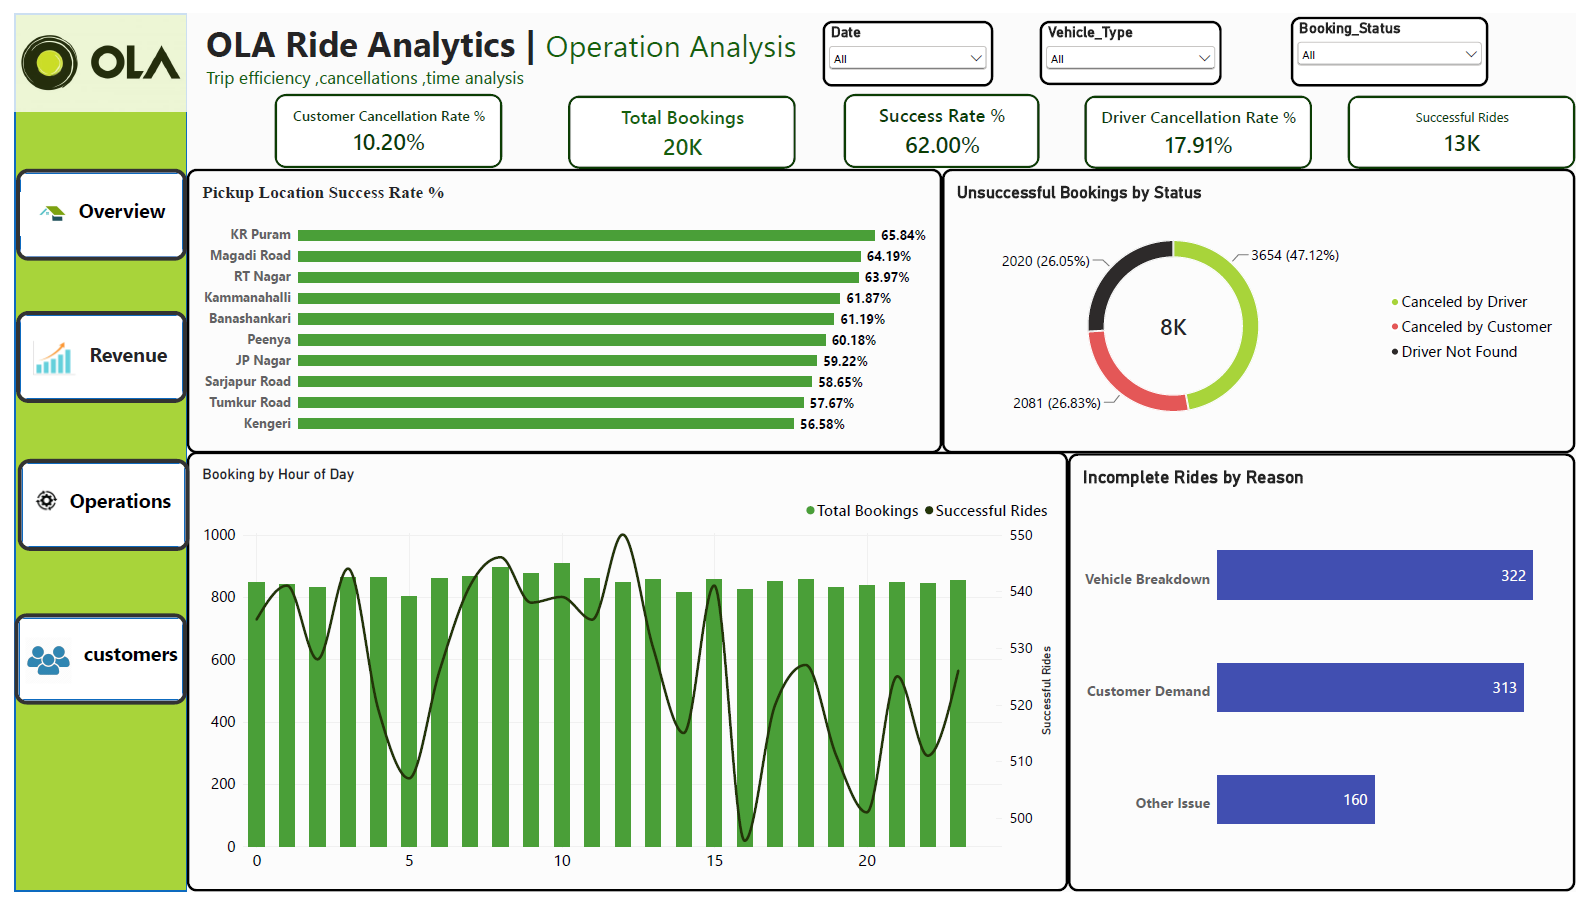

What the dashboard file says about the page in this screenshot:
{"tool":"powerbi","page":{"name":"Operations","canvas":[1920,1080],"ordinal":2},"visuals":[{"type":"shape","box":[0,0,211.7,1080.4],"z":0},{"type":"cardVisual","fields":{"Data":["ola bookings_clean.Total Bookings"]},"box":[681,101.2,280,90],"z":1},{"type":"cardVisual","fields":{"Data":["ola bookings_clean.Successful Rides"]},"box":[1639.9,101.2,280,90],"z":2},{"type":"cardVisual","fields":{"Data":["ola bookings_clean.Success Rate %"]},"box":[1019.6,99.4,241.1,90.2],"z":4},{"type":"cardVisual","fields":{"Data":["ola bookings_clean.Customer Cancellation Rate %"]},"box":[320.2,99.4,280,90.2],"z":5},{"type":"cardVisual","fields":{"Data":["ola bookings_clean.Driver Cancellation Rate %"]},"box":[1316,101.2,280,90],"z":6},{"type":"lineClusteredColumnComboChart","title":"Booking by Hour of Day","fields":{"Category":["ola bookings_clean.Booking Hour"],"Y":["ola bookings_clean.Total Bookings"],"Y2":["ola bookings_clean.Successful Rides"]},"box":[211.7,539.3,1084.1,541.1],"z":7},{"type":"donutChart","title":"Unsuccessful Bookings by Status","fields":{"Category":["ola bookings_clean.Booking_Status"],"Y":["ola bookings_clean.Total Bookings"]},"box":[1141.1,191.4,778.5,349.7],"z":8},{"type":"clusteredBarChart","title":"Incomplete Rides by Reason","fields":{"Category":["ola bookings_clean.Incomplete_Rides_Reason"],"Y":["CountNonNull(ola bookings_clean.Booking_ID)"]},"box":[1295.7,541.1,623.9,539.3],"z":9},{"type":"clusteredBarChart","title":"Pickup Location Success Rate % ","fields":{"Category":["ola bookings_clean.Pickup_Location"],"Y":["ola bookings_clean.Pickup Location Success Rate %"]},"box":[211.7,191.4,929.5,349.7],"z":10},{"type":"slicer","title":"DATE","fields":{"Values":["ola bookings_clean.Date.1"]},"box":[993.9,9.2,209.8,81],"z":11},{"type":"slicer","fields":{"Values":["ola bookings_clean.Vehicle_Type"]},"box":[1260.7,9.2,224.5,79.1],"z":12},{"type":"slicer","fields":{"Values":["ola bookings_clean.Booking_Status"]},"box":[1569.9,3.7,242.9,86.5],"z":13},{"type":"textbox","box":[235.6,7.4,817.2,112.3],"z":14},{"type":"image","box":[0,0,211.7,119.6],"z":15},{"type":"shape","box":[1.8,191.4,209.8,112.3],"z":16},{"type":"shape","box":[1.8,366.3,209.8,112.3],"z":17},{"type":"shape","box":[3.7,548.5,211.7,112.3],"z":18},{"type":"shape","box":[0,738,211.7,112.3],"z":19},{"type":"image","box":[7.4,191.4,79.1,110.4],"z":21},{"type":"image","box":[3.7,388.3,90.2,69.9],"z":22},{"type":"image","box":[18.4,568.7,42.3,58.9],"z":23},{"type":"image","box":[12.9,760.1,57.1,69.9],"z":24},{"type":"textbox","box":[79.1,226.4,136.2,46],"z":26},{"type":"textbox","box":[92,403.1,116,60.7],"z":27},{"type":"textbox","box":[68.1,581.6,152.8,46],"z":28},{"type":"textbox","box":[84.7,771.2,121.5,46],"z":29}]}

Visuals, with their boxes in screenshot pixels (x1, y1, x2, y2), scaled from the page's 1920x1080 canvas onto the 1582x898 screenshot:
shape: x1=0 y1=0 x2=174 y2=897
cardVisual - ola bookings_clean.Total Bookings: x1=561 y1=84 x2=792 y2=159
cardVisual - ola bookings_clean.Successful Rides: x1=1351 y1=84 x2=1581 y2=159
cardVisual - ola bookings_clean.Success Rate %: x1=840 y1=83 x2=1039 y2=158
cardVisual - ola bookings_clean.Customer Cancellation Rate %: x1=264 y1=83 x2=495 y2=158
cardVisual - ola bookings_clean.Driver Cancellation Rate %: x1=1084 y1=84 x2=1315 y2=159
"Booking by Hour of Day" lineClusteredColumnComboChart: x1=174 y1=448 x2=1068 y2=897
"Unsuccessful Bookings by Status" donutChart: x1=940 y1=159 x2=1581 y2=450
"Incomplete Rides by Reason" clusteredBarChart: x1=1068 y1=450 x2=1581 y2=897
"Pickup Location Success Rate % " clusteredBarChart: x1=174 y1=159 x2=940 y2=450
"DATE" slicer: x1=819 y1=8 x2=992 y2=75
slicer - ola bookings_clean.Vehicle_Type: x1=1039 y1=8 x2=1224 y2=73
slicer - ola bookings_clean.Booking_Status: x1=1294 y1=3 x2=1494 y2=75
textbox: x1=194 y1=6 x2=867 y2=100
image: x1=0 y1=0 x2=174 y2=99
shape: x1=1 y1=159 x2=174 y2=253
shape: x1=1 y1=305 x2=174 y2=398
shape: x1=3 y1=456 x2=177 y2=549
shape: x1=0 y1=614 x2=174 y2=707
image: x1=6 y1=159 x2=71 y2=251
image: x1=3 y1=323 x2=77 y2=381
image: x1=15 y1=473 x2=50 y2=522
image: x1=11 y1=632 x2=58 y2=690
textbox: x1=65 y1=188 x2=177 y2=226
textbox: x1=76 y1=335 x2=171 y2=386
textbox: x1=56 y1=484 x2=182 y2=522
textbox: x1=70 y1=641 x2=170 y2=679
